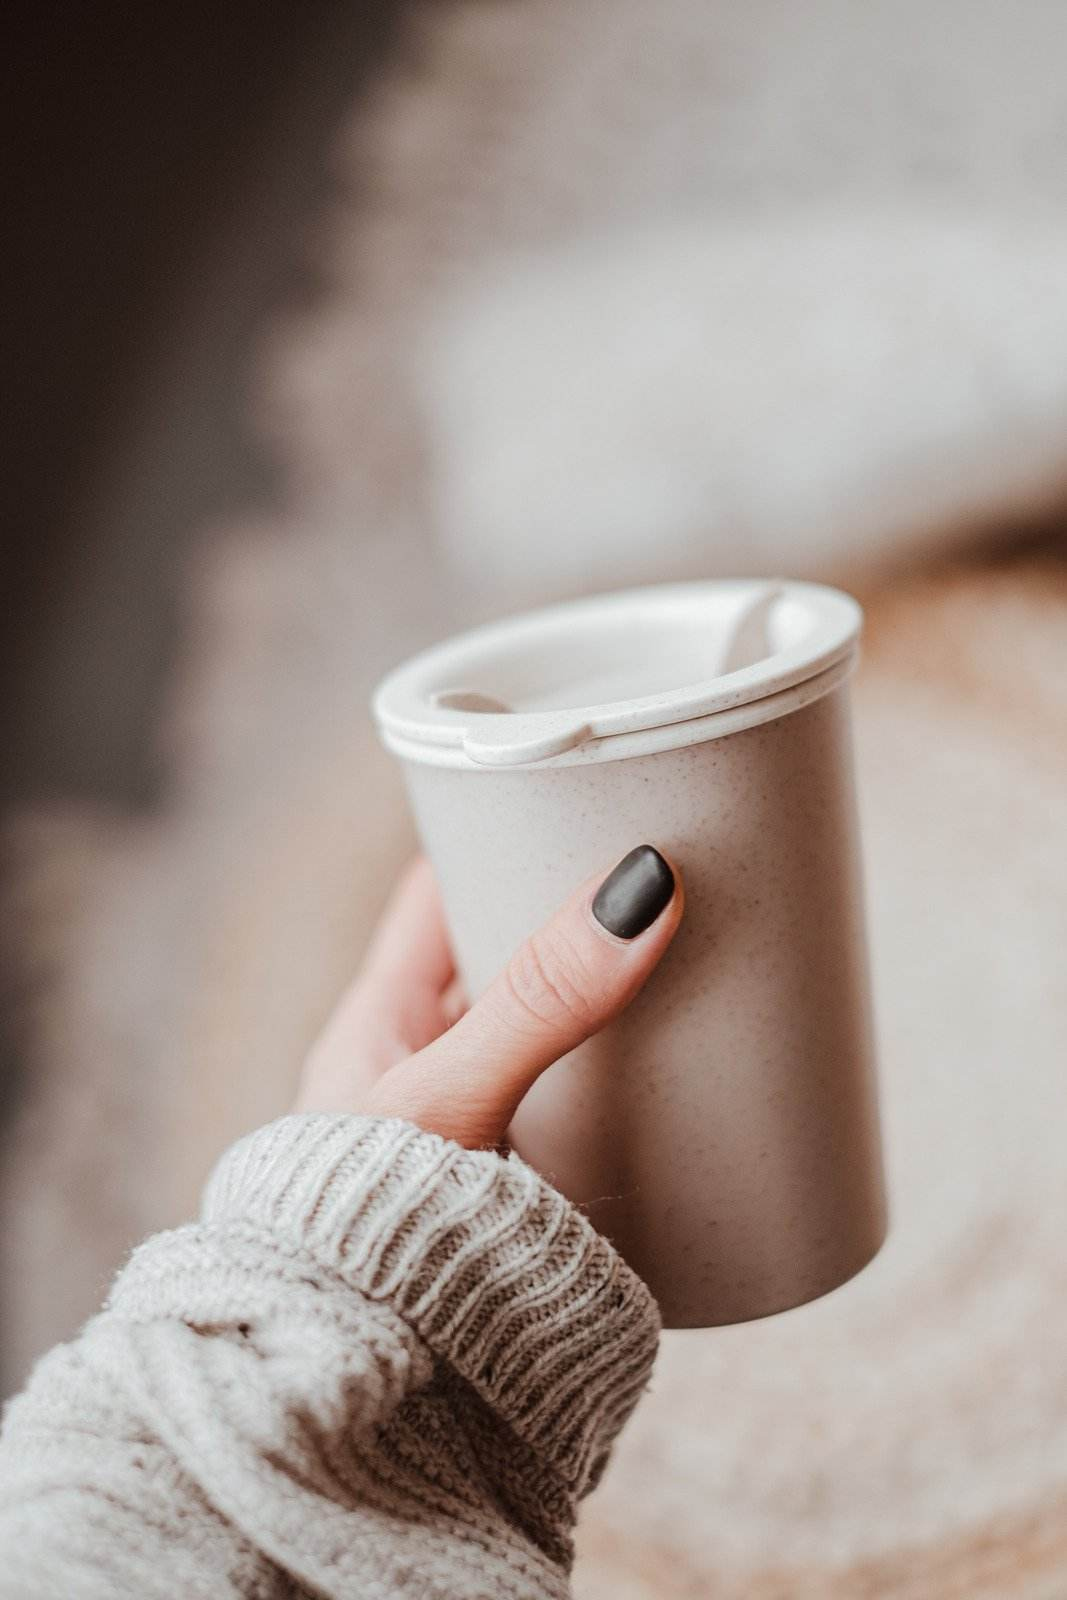no-phone: (287, 555, 891, 1336)
